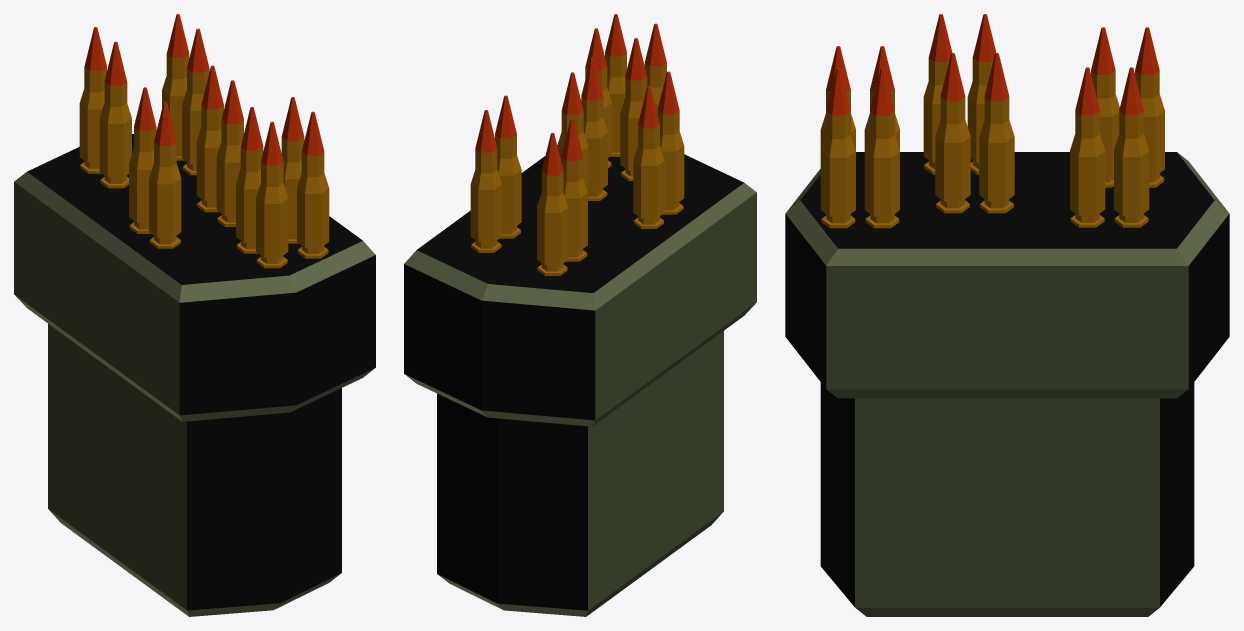
File: ammo_300.glb
3 renders of one model, left to right at view 1: azimuth 30°, elevation 25°; view 2: azimuth 150°, elevation 25°; view 3: azimuth 270°, elevation 25°, orthographic. The views are drawn at different scales.
Parts seen in each view (by area): view 1: item_ammo_300; view 2: item_ammo_300; view 3: item_ammo_300.
Boxes of the visible parts, x1,y1,x2,y2 form: item_ammo_300: (14, 14, 375, 616); item_ammo_300: (404, 14, 756, 616); item_ammo_300: (785, 14, 1229, 616).
Size of the model in its own units: 0.1181 by 0.28 by 0.2115.
